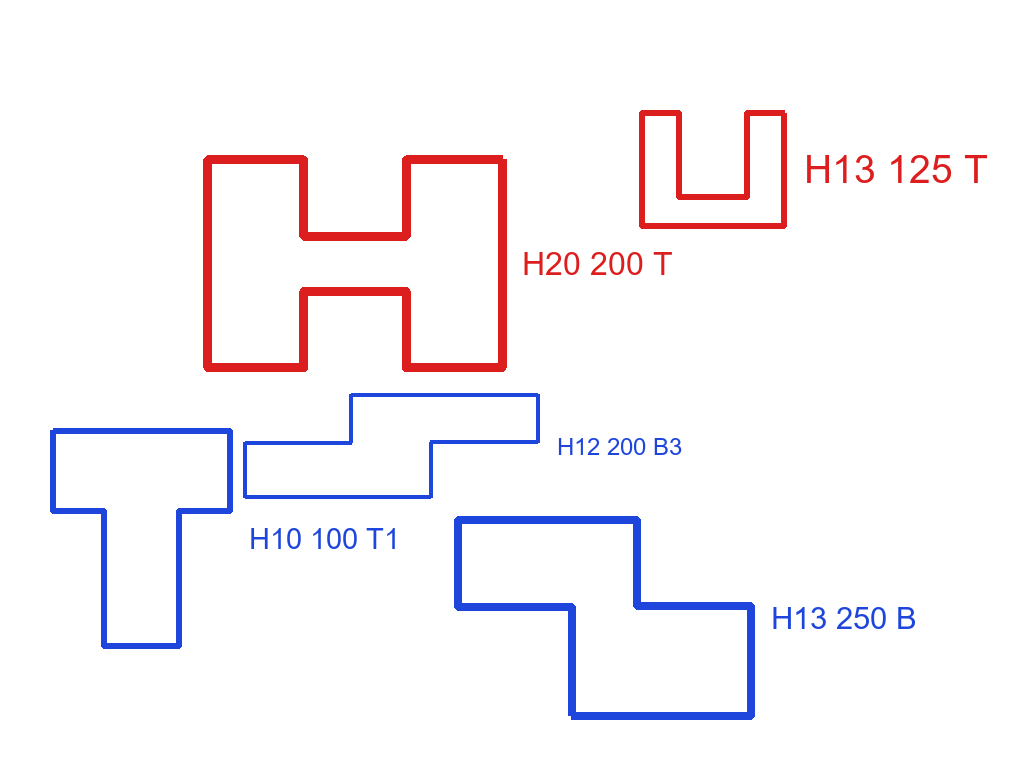shape: (201, 153, 509, 374), (451, 515, 757, 721), (48, 425, 234, 652), (241, 391, 541, 502), (637, 108, 789, 231)
text: (802, 153, 990, 185), (520, 250, 675, 277), (769, 605, 919, 631), (247, 526, 402, 551), (555, 436, 684, 457)
